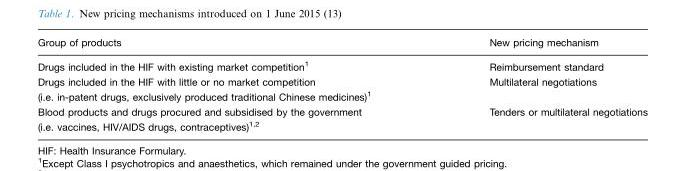table: (36, 37, 646, 131)
table column: (36, 37, 429, 131), (429, 37, 646, 131)
table column header: (36, 37, 646, 53)
table projected row header: (36, 88, 646, 104)
table row: (36, 53, 646, 74), (36, 37, 646, 53), (36, 88, 646, 104), (36, 74, 646, 88), (36, 104, 646, 118), (36, 118, 646, 131)
